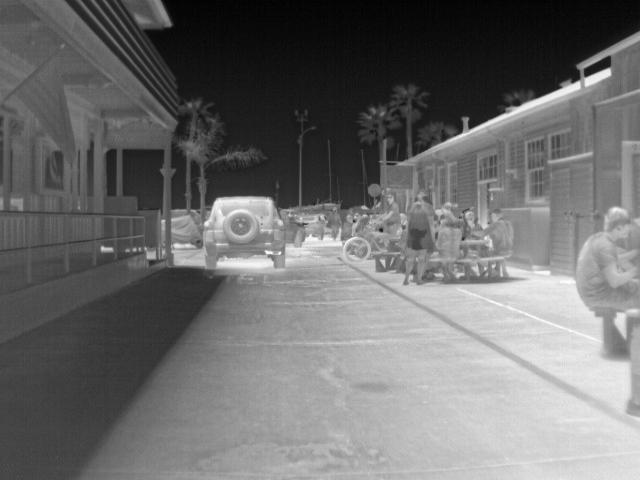car: (206, 194, 285, 266), (276, 207, 307, 248), (298, 213, 326, 241)
person: (574, 204, 638, 312), (399, 192, 442, 283), (355, 185, 403, 249), (469, 211, 512, 255), (434, 213, 463, 260), (460, 209, 487, 240), (326, 204, 342, 240)
